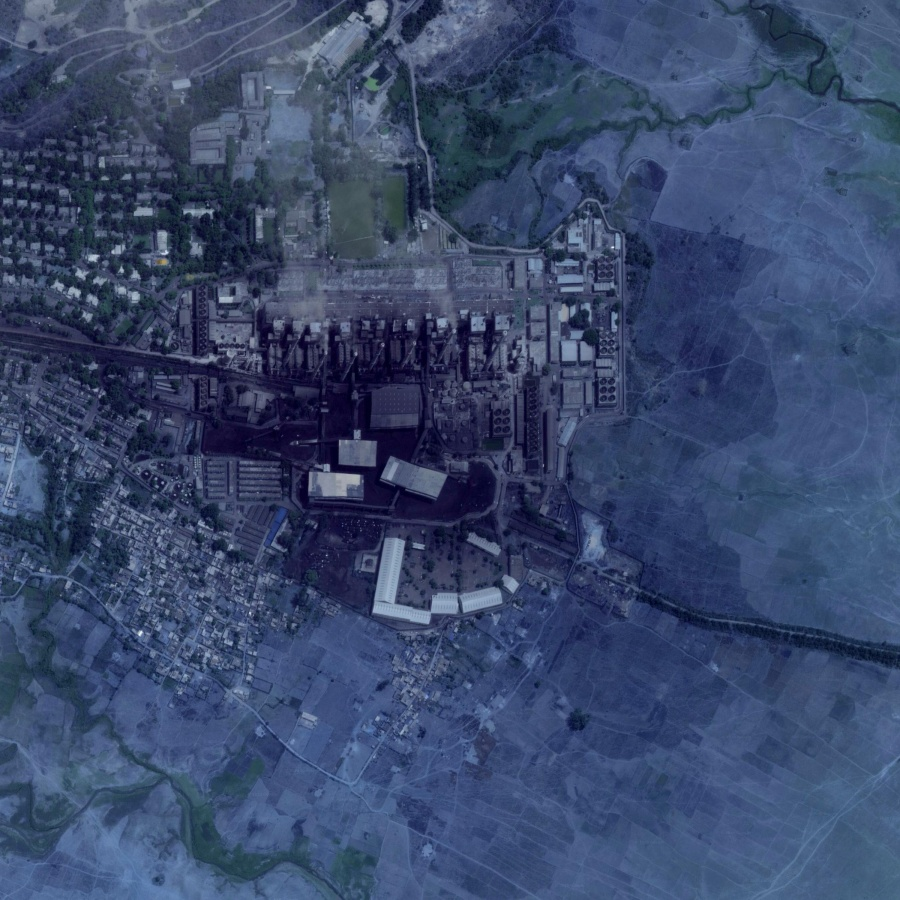PowerPlant: (203, 180, 626, 530)
